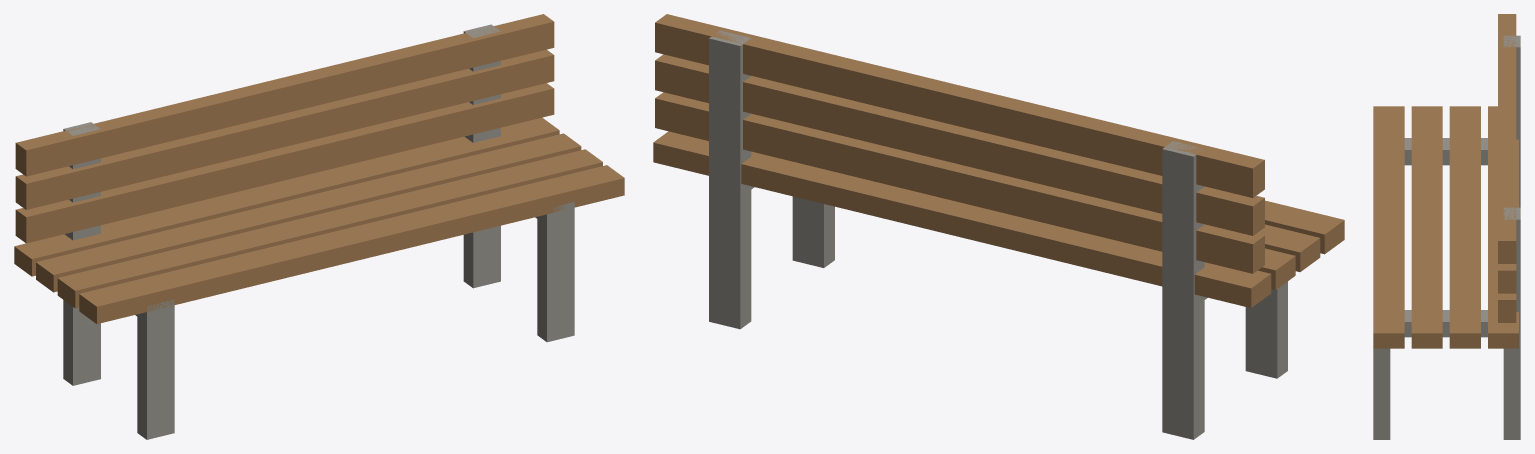
File: bench.glb
3 views of the same model, side by side, from view 1: azimuth 30°, elevation 25°; view 2: azimuth 150°, elevation 25°; view 3: azimuth 270°, elevation 25° (orthographic). The views are drawn at different scales.
Visible parts, largest first — view 1: SM_ENV_bench; view 2: SM_ENV_bench; view 3: SM_ENV_bench.
Boxes of the visible parts, box(x1,y1,x2,y2) form: SM_ENV_bench: box(14, 14, 624, 439); SM_ENV_bench: box(653, 14, 1344, 439); SM_ENV_bench: box(1373, 14, 1520, 439).
Size of the model in its own units: 1.9 by 0.86 by 0.52.
